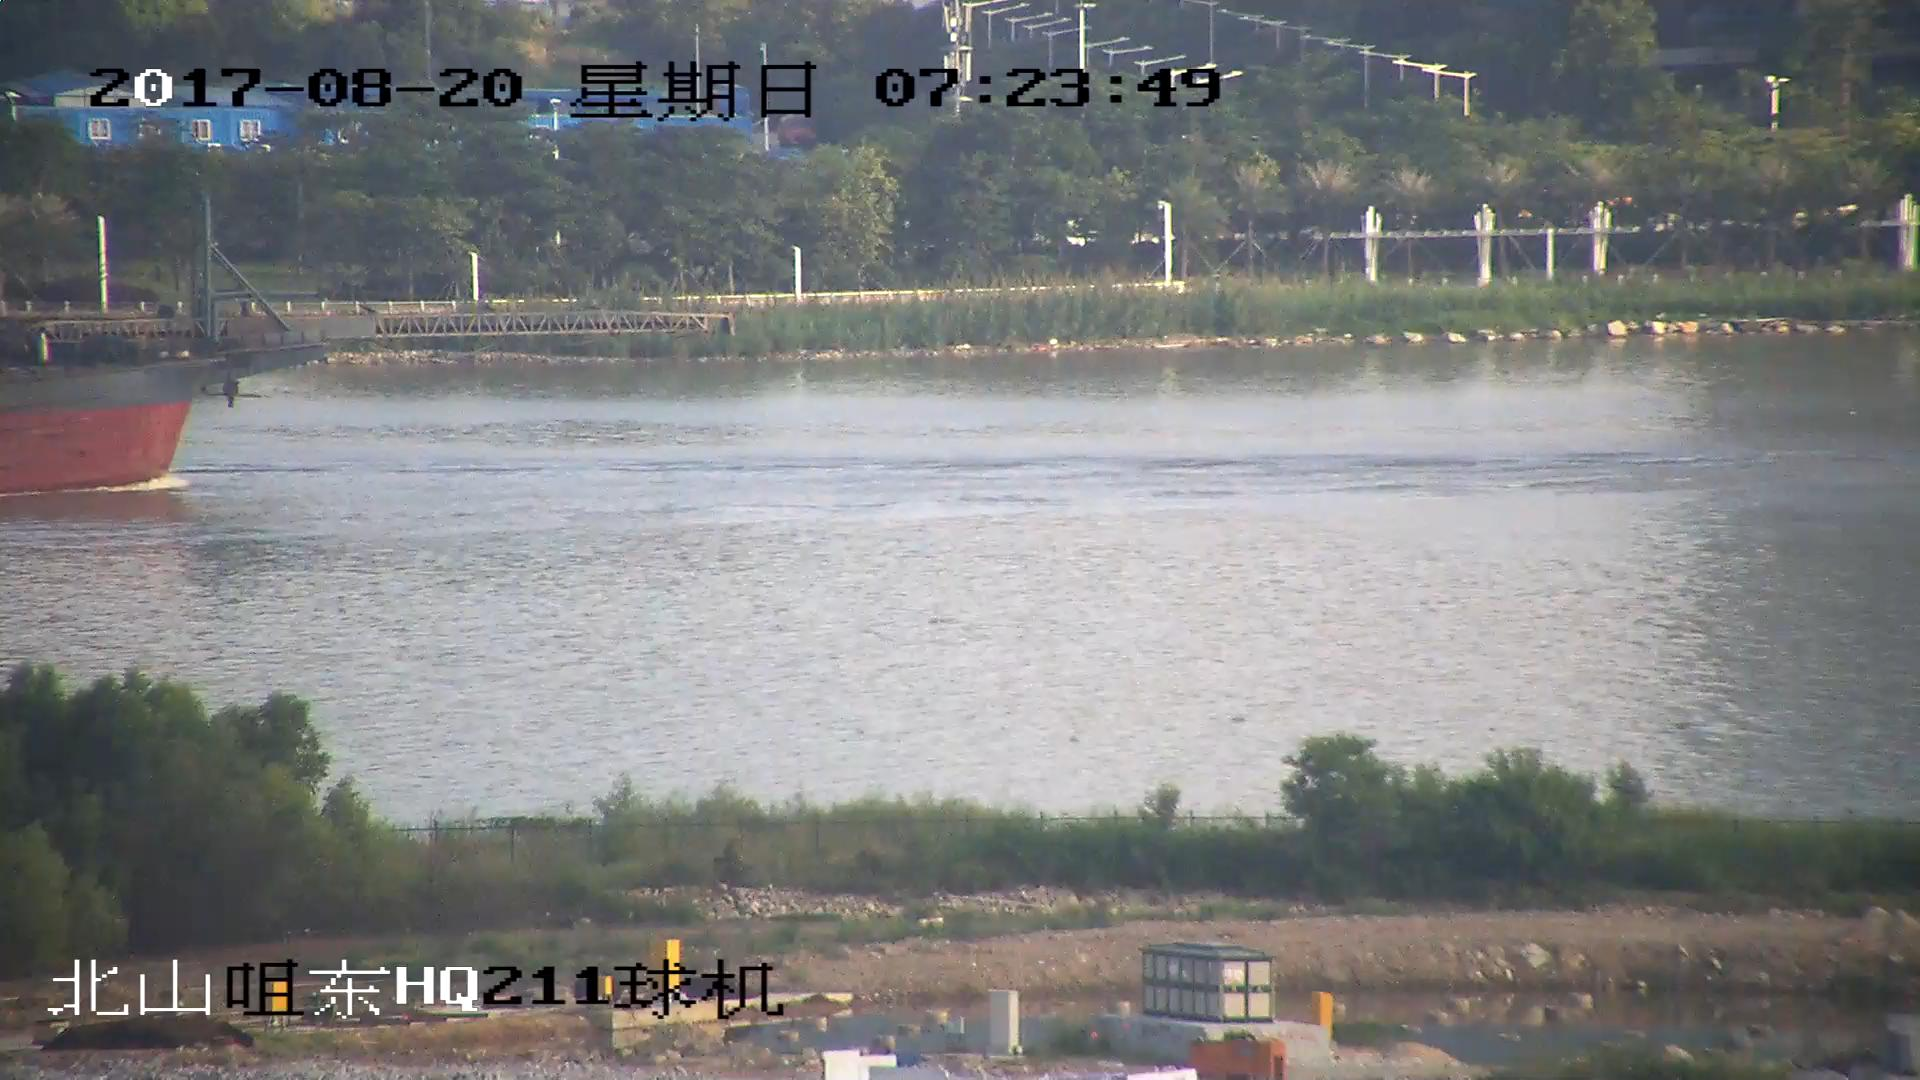bulk cargo carrier: (1, 200, 727, 493)
